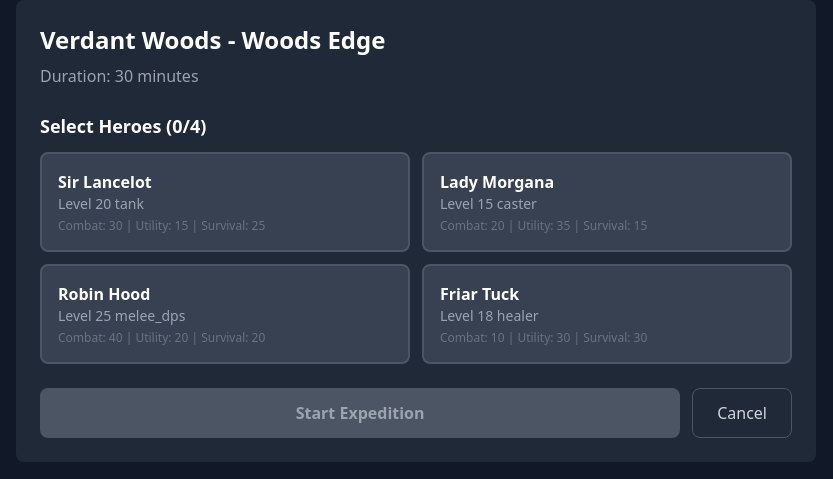
Test case: Setup (Expedition) › Hero Selection › should deselect hero on second click
Click the button with class "hero-card" that starts with "Sir Lancelot": (105, 182) [40,152,410,252]
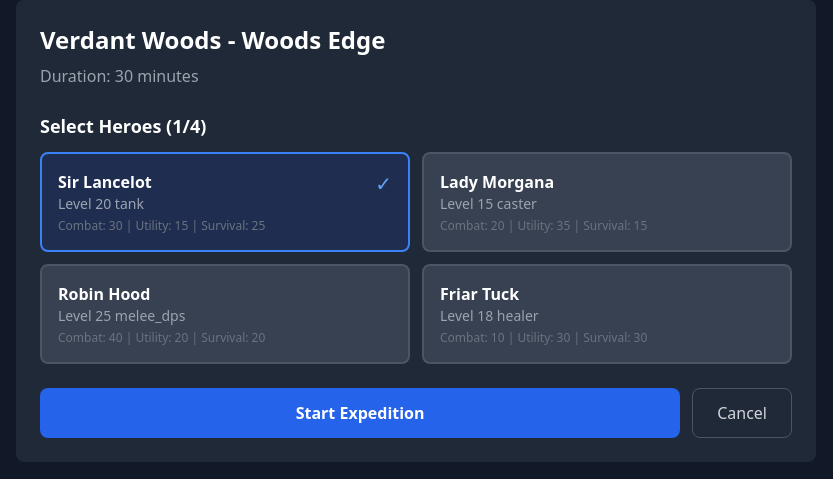
Now the text "1/4" is shown, box [40,114,206,138]
Click the button with class "hero-card" that starts with "Sir Lancelot": (105, 182) [40,152,410,252]
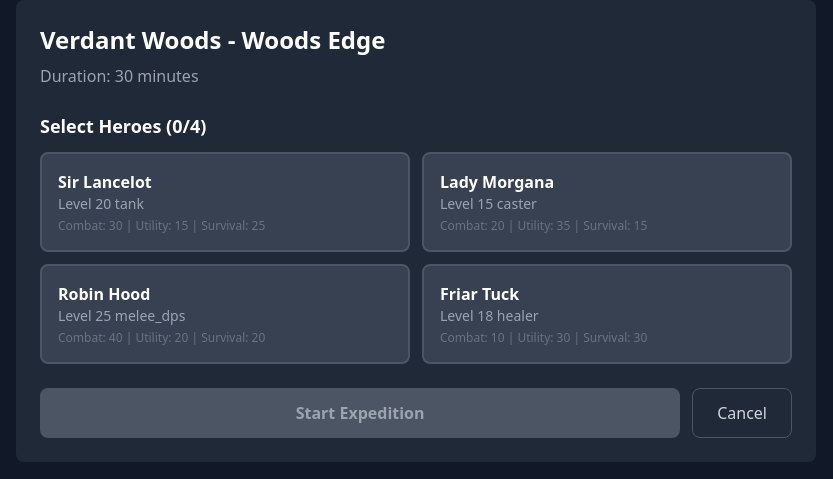
Now the text "0/4" is shown, box [40,114,206,138]
